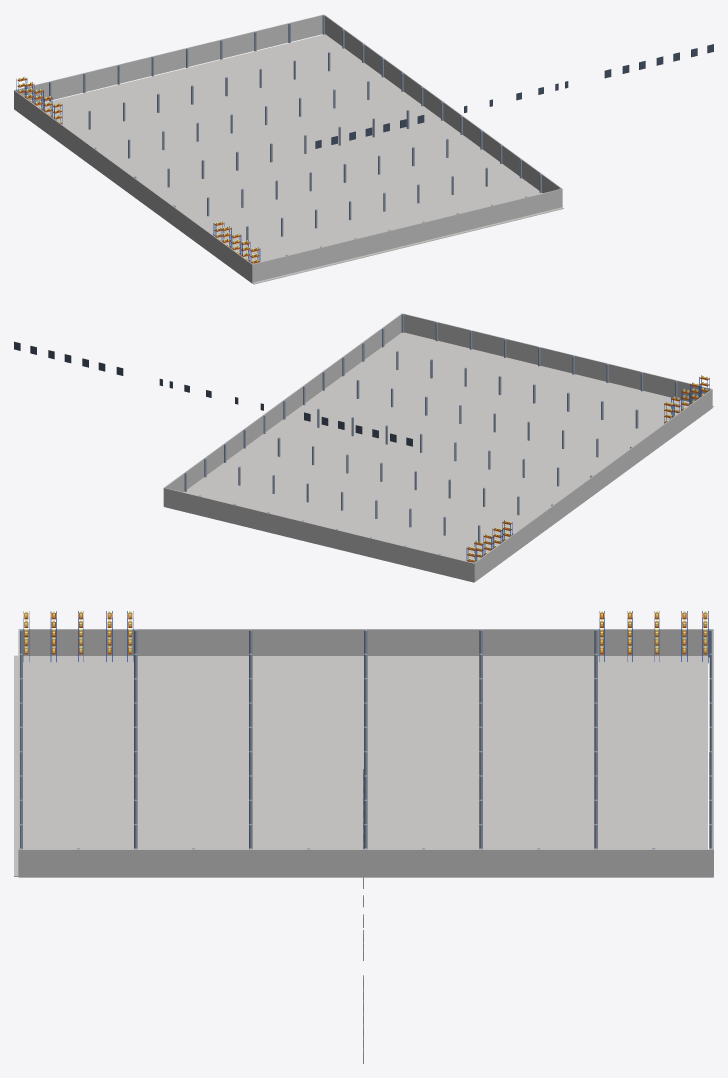
The model's file is model_sakarya-lm1.glb.
3 renders of one model, top to bottom at view 1: azimuth 30°, elevation 25°; view 2: azimuth 150°, elevation 25°; view 3: azimuth 270°, elevation 25°, orthographic. The views are drawn at different scales.
Visible parts, largest first — view 1: slab_slab_05nz3cfqya116bio, slab_slab_sdasb4tf9hzg40wa, wall_wall_qwubz5cxntxmy254, wall_wall_owp1eyt0gbkn5fi4, wall_wall_9ztzr60mbiatfhcb, wall_wall_orzbnw5lbfbi9z4w, wall_wall_kmpac37je5yp76vq, wall_wall_5lk8mw1130xgasrh, wall_wall_qo4a55zuy3vi67wk, wall_wall_hskt6mg2lpwdtba6; view 2: slab_slab_05nz3cfqya116bio, slab_slab_sdasb4tf9hzg40wa, wall_wall_owp1eyt0gbkn5fi4, wall_wall_qwubz5cxntxmy254, wall_wall_9ztzr60mbiatfhcb, wall_wall_orzbnw5lbfbi9z4w, wall_wall_5lk8mw1130xgasrh, wall_wall_qo4a55zuy3vi67wk, wall_wall_hskt6mg2lpwdtba6, wall_wall_kmpac37je5yp76vq; view 3: slab_slab_05nz3cfqya116bio, slab_slab_sdasb4tf9hzg40wa, wall_wall_9ztzr60mbiatfhcb, wall_wall_5lk8mw1130xgasrh, wall_wall_orzbnw5lbfbi9z4w, wall_wall_kmpac37je5yp76vq.
Part boxes in pixels (<box>): slab_slab_05nz3cfqya116bio: <box>36,34,563,284</box>; slab_slab_sdasb4tf9hzg40wa: <box>38,35,562,283</box>; wall_wall_qwubz5cxntxmy254: <box>252,188,562,282</box>; wall_wall_owp1eyt0gbkn5fi4: <box>14,14,323,103</box>; wall_wall_9ztzr60mbiatfhcb: <box>14,90,252,282</box>; wall_wall_orzbnw5lbfbi9z4w: <box>324,14,562,206</box>; wall_wall_kmpac37je5yp76vq: <box>15,94,251,282</box>; wall_wall_5lk8mw1130xgasrh: <box>325,21,558,192</box>; wall_wall_qo4a55zuy3vi67wk: <box>252,193,562,281</box>; wall_wall_hskt6mg2lpwdtba6: <box>29,19,322,102</box>; slab_slab_05nz3cfqya116bio: <box>184,332,713,562</box>; slab_slab_sdasb4tf9hzg40wa: <box>186,333,688,561</box>; wall_wall_owp1eyt0gbkn5fi4: <box>164,488,473,582</box>; wall_wall_qwubz5cxntxmy254: <box>402,313,712,401</box>; wall_wall_9ztzr60mbiatfhcb: <box>474,389,712,582</box>; wall_wall_orzbnw5lbfbi9z4w: <box>163,313,401,506</box>; wall_wall_5lk8mw1130xgasrh: <box>168,317,401,491</box>; wall_wall_qo4a55zuy3vi67wk: <box>404,317,706,399</box>; wall_wall_hskt6mg2lpwdtba6: <box>164,491,473,582</box>; wall_wall_kmpac37je5yp76vq: <box>474,392,712,581</box>; slab_slab_05nz3cfqya116bio: <box>14,655,707,876</box>; slab_slab_sdasb4tf9hzg40wa: <box>14,655,707,875</box>; wall_wall_9ztzr60mbiatfhcb: <box>19,629,713,656</box>; wall_wall_5lk8mw1130xgasrh: <box>19,853,713,877</box>; wall_wall_orzbnw5lbfbi9z4w: <box>19,849,713,877</box>; wall_wall_kmpac37je5yp76vq: <box>23,632,709,655</box>.
Bounding box in the file's own units: 192 × 10.17 × 138.
